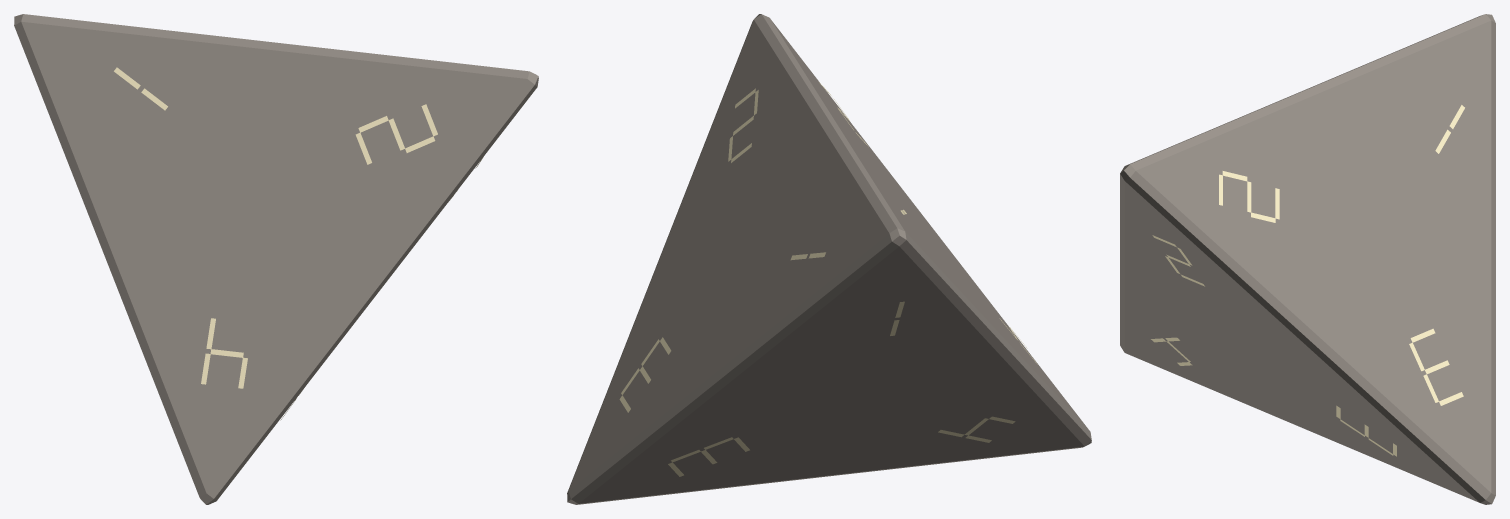
3 views of the same model, side by side, from view 1: azimuth 30°, elevation 25°; view 2: azimuth 150°, elevation 25°; view 3: azimuth 270°, elevation 25° (orthographic). The views are drawn at different scales.
Visible parts, largest first — view 1: RenderMesh, GlyphMesh; view 2: RenderMesh, GlyphMesh; view 3: RenderMesh, GlyphMesh.
Part boxes in pixels (x1,y1,x2,y2): RenderMesh: (14, 14, 538, 504); GlyphMesh: (114, 67, 483, 420); RenderMesh: (567, 14, 1091, 504); GlyphMesh: (619, 82, 1037, 476); RenderMesh: (1120, 14, 1495, 504); GlyphMesh: (1151, 105, 1464, 456).
Size of what is drawn, in the model's own units: 0.027 by 0.027 by 0.027.
